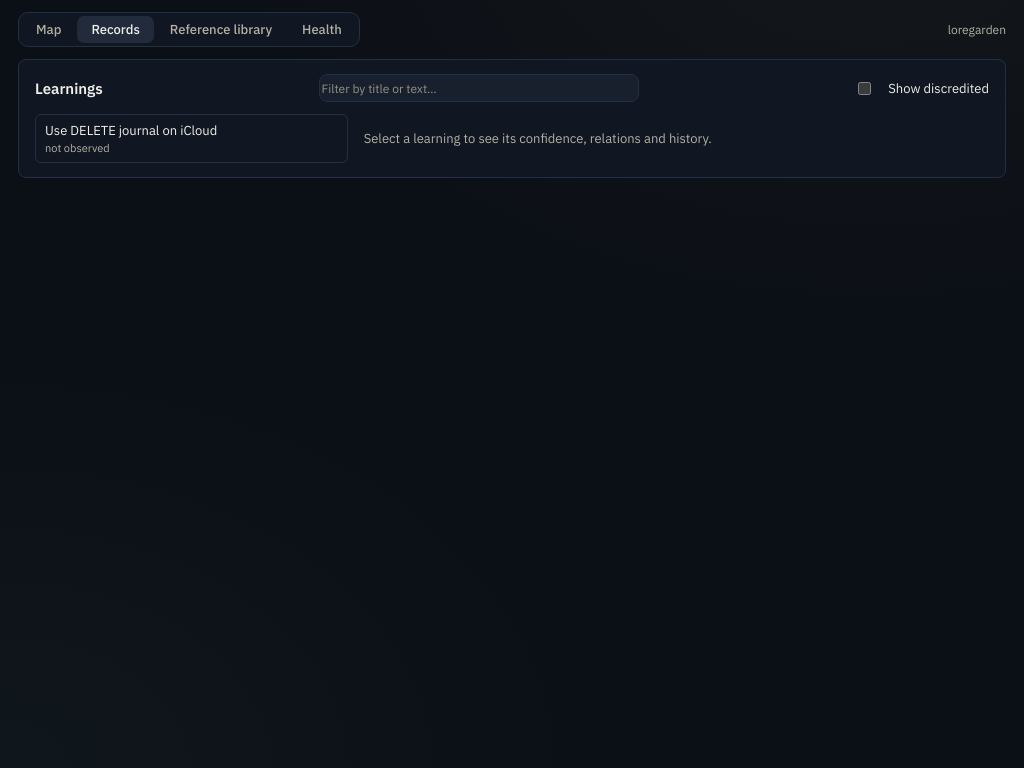
Scenario: closes the confirm dialog on Escape without writing
Click the button "Use DELETE journal on iCloud not observed" at {"x": 191, "y": 138}, box [35,114,348,163]
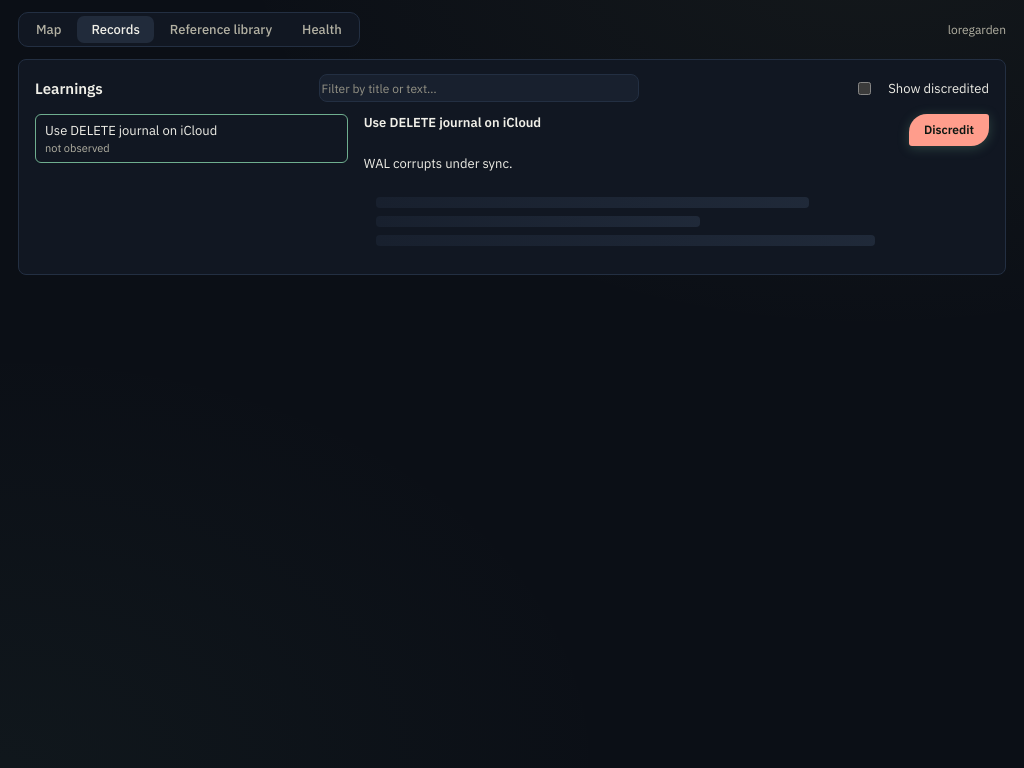
Click the button "Discredit" at {"x": 949, "y": 130}, box [909,114,989,146]
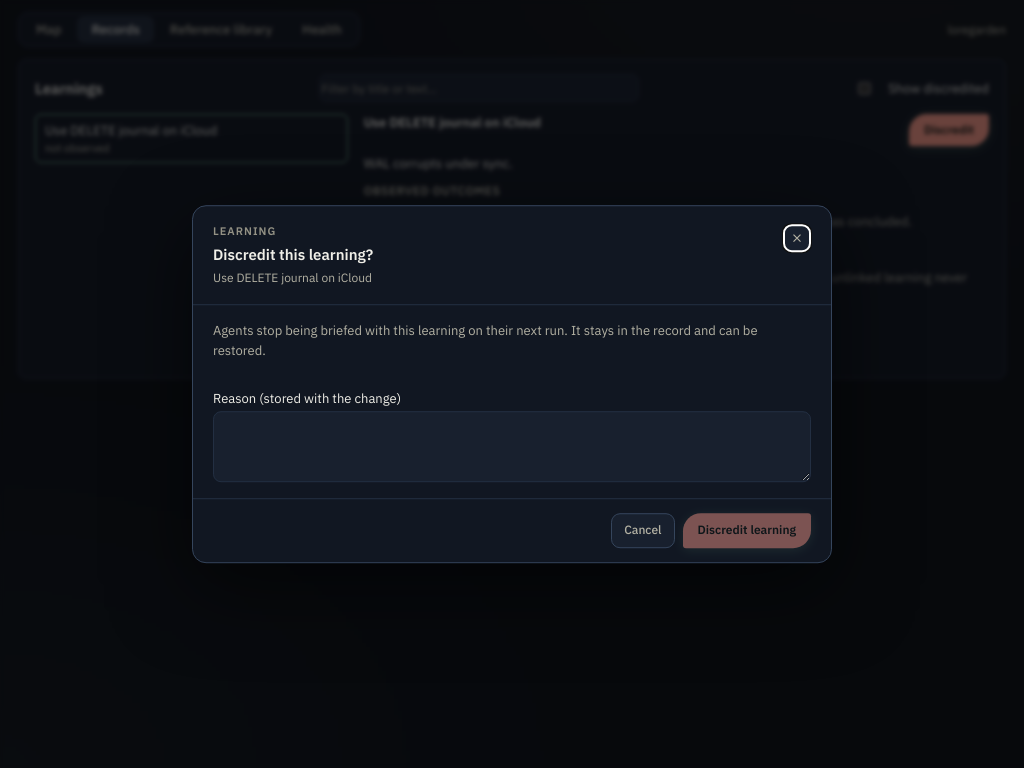
Check: the dialog is shown, box [192,205,832,563]
Press Escape
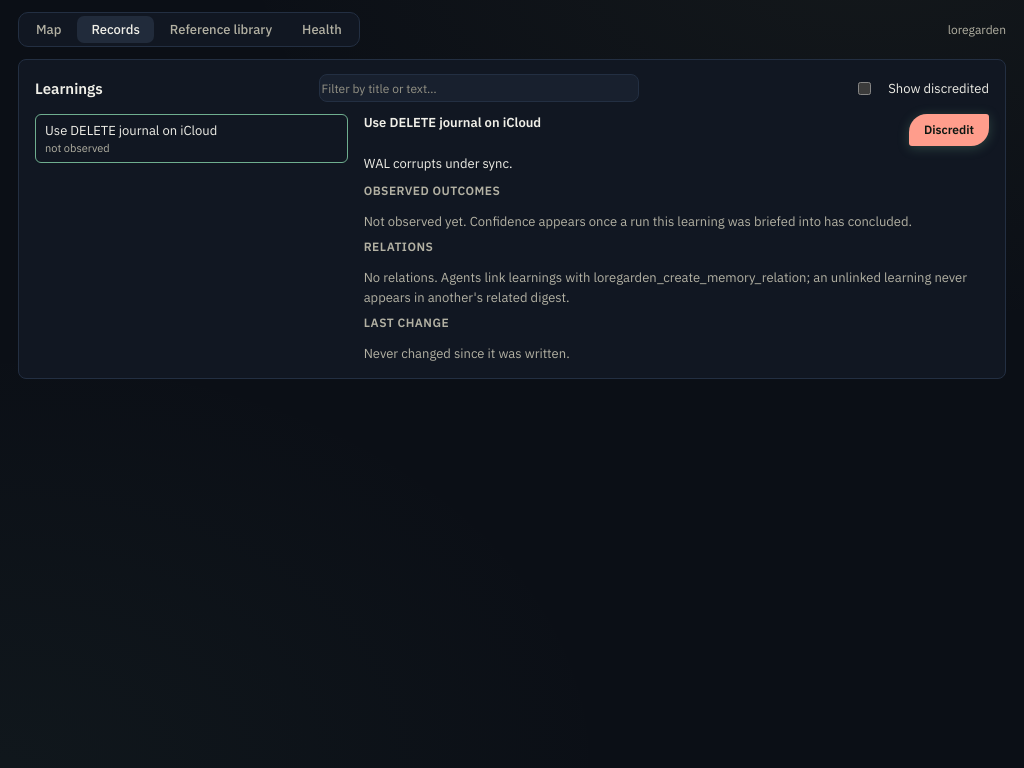
Check: the dialog is gone
